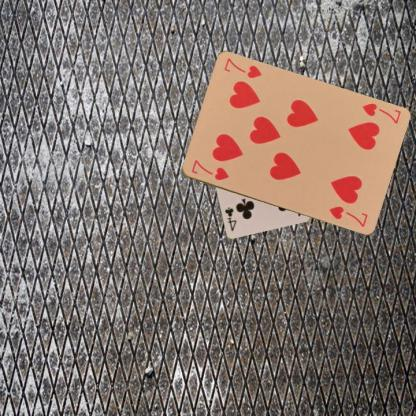7h: (360, 100, 402, 126), (188, 157, 230, 182)
